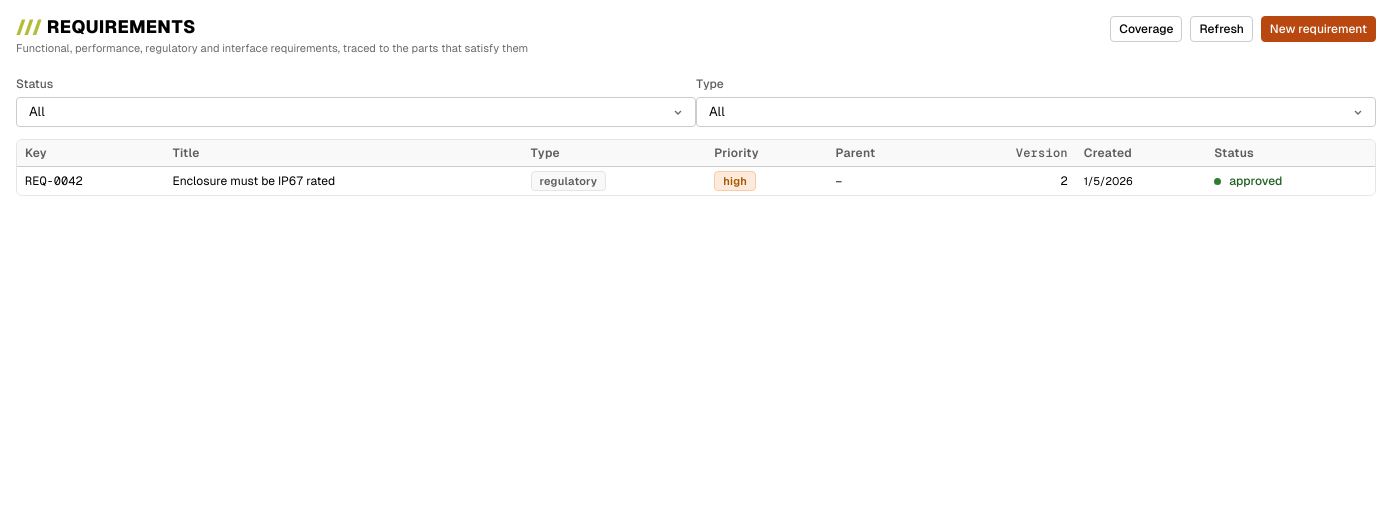
Scenario: RequirementsScreen › opens the detail panel and shows real linked parts, or an honest uncovered message
The image size is (1393, 515).
Click the text "REQ-0042".
click(54, 181)  # box [25,174,83,188]
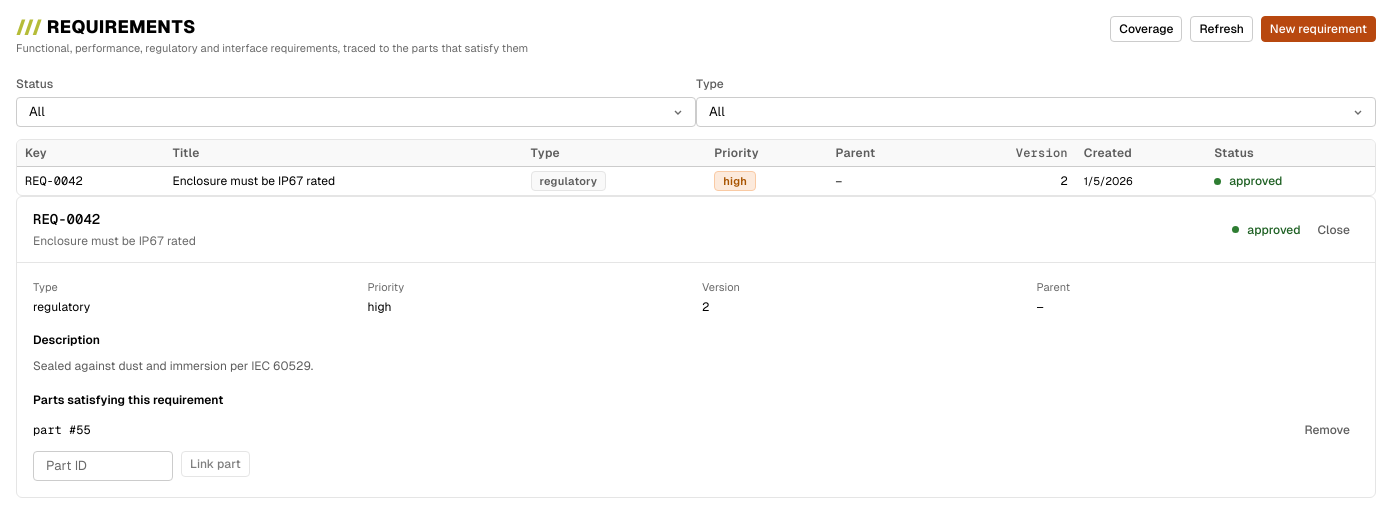
Result: the text "Sealed against dust and immersion per IEC 60529." is shown at [33,360,313,374]
Result: the list item "part #55" is shown at [33,417,1359,443]
